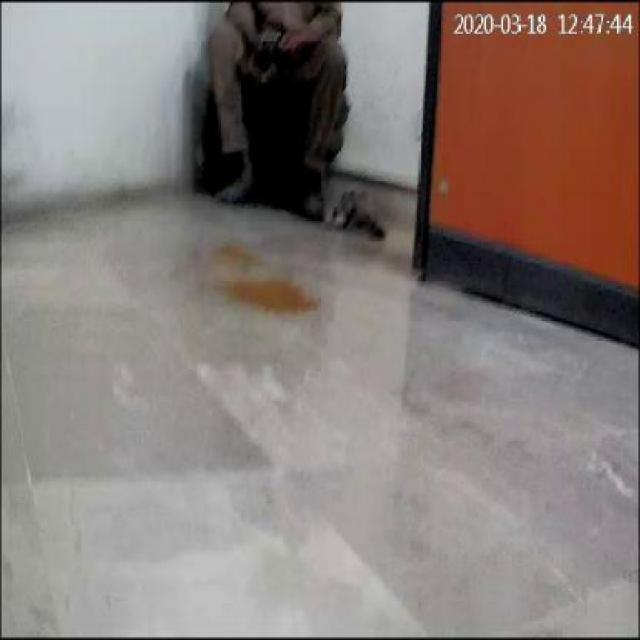spill: (215, 278, 320, 317)
